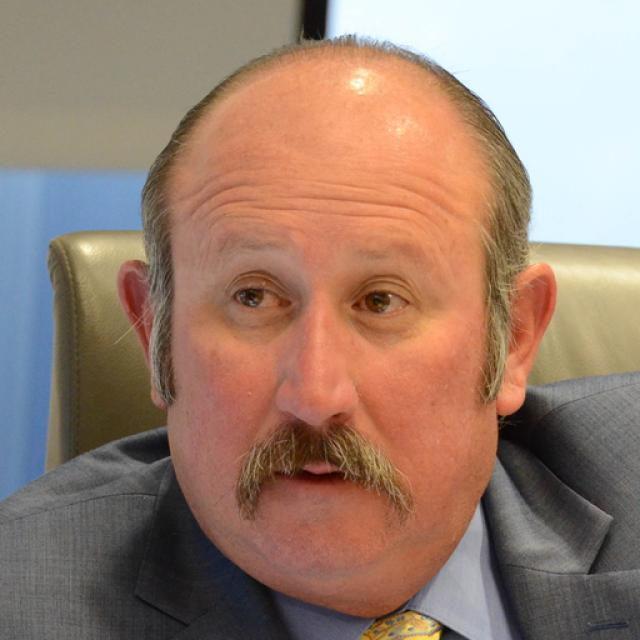Wrinkle: (257, 196, 410, 224), (180, 175, 271, 221)
